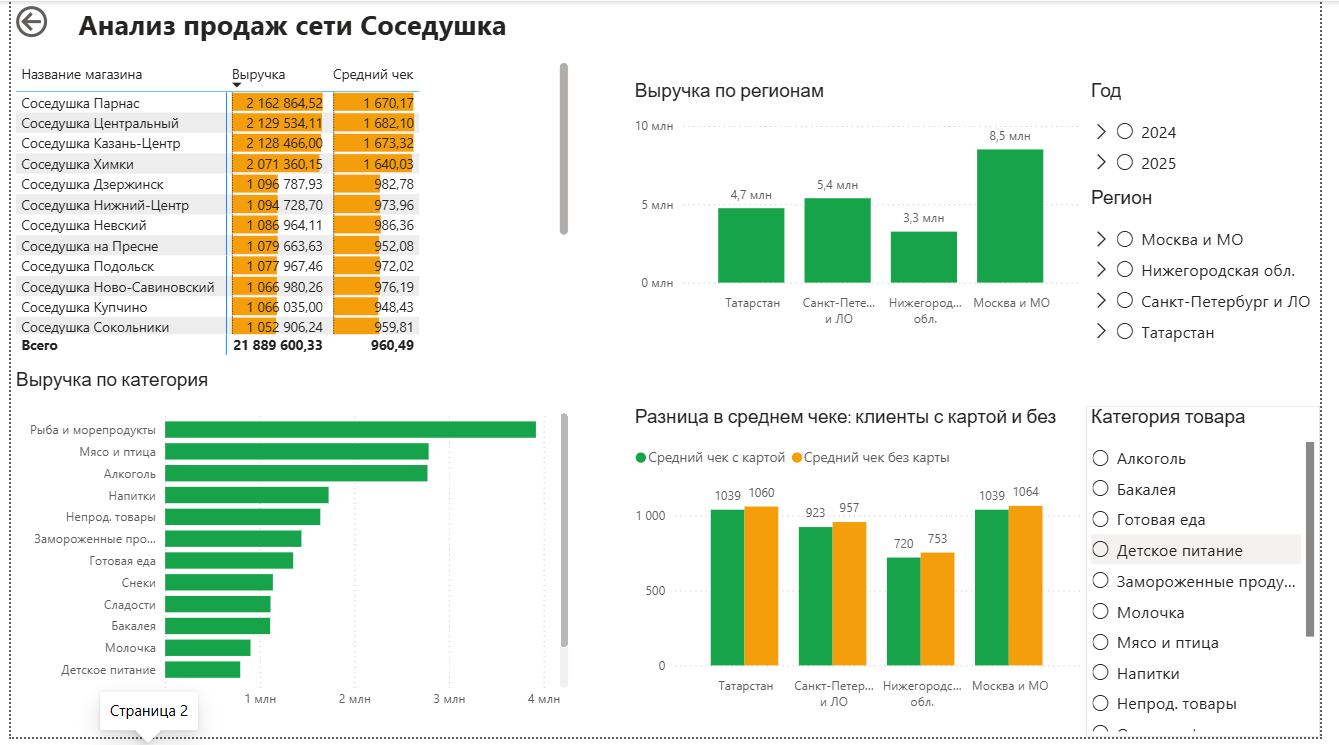

What the dashboard file says about the page in this screenshot:
{"tool":"powerbi","page":{"name":"Страница 2","canvas":[1280,720],"ordinal":1},"visuals":[{"type":"clusteredColumnChart","title":"Разница в среднем чеке: клиенты с картой и без","fields":{"Y":["fact_sales.avg_check_card","fact_sales.avg_check_nocard"],"Category":["dim_stores.регион"]},"box":[605.3,396.2,446.3,304.5],"z":0},{"type":"listSlicer","title":"Регион","fields":{"Values":["dim_stores.регион","dim_stores.наименование_магазина"]},"box":[1051.6,182.2,228.7,168.8],"z":1000},{"type":"textbox","box":[61.1,0,453.7,45.2],"z":2000},{"type":"pivotTable","title":"Выручка по магазинам","fields":{"Rows":["dim_stores.наименование_магазина"],"Values":["fact_sales.Revenue","fact_sales.средний чек"]},"box":[0,55,550.3,295.9],"z":3000},{"type":"listSlicer","title":"Категория товара","fields":{"Values":["dim_products.категория"]},"box":[1051.6,396.2,228.7,324.1],"z":4000},{"type":"listSlicer","fields":{"Values":["fact_sales.дата_время.Изменение.Иерархия дат.Год","dim_calendar.Год-Месяц"]},"box":[1051.6,77,228.7,105.2],"z":5000},{"type":"actionButton","box":[0,0,52.6,40.4],"z":6000},{"type":"clusteredColumnChart","title":"Выручка по регионам","fields":{"Category":["dim_stores.регион","dim_stores.город","dim_stores.id_магазина"],"Y":["fact_sales.Revenue"]},"box":[605.3,77,446.3,249.5],"z":7000},{"type":"clusteredBarChart","fields":{"Category":["dim_products.категория"],"Y":["fact_sales.Выручка"]},"box":[0,359.5,550.3,341.2],"z":7001}]}

Visuals, with their boxes on the page's 1280x720 design canvas (x1, y1, x2, y2). These are canvas units, not pixel positions in the 1339x745 screenshot, which may show the page scaled, cropped or inside an application window:
"Разница в среднем чеке: клиенты с картой и без" clusteredColumnChart: [left=605, top=396, right=1052, bottom=701]
"Регион" listSlicer: [left=1052, top=182, right=1280, bottom=351]
textbox: [left=61, top=0, right=515, bottom=45]
"Выручка по магазинам" pivotTable: [left=0, top=55, right=550, bottom=351]
"Категория товара" listSlicer: [left=1052, top=396, right=1280, bottom=720]
listSlicer - fact_sales.дата_время.Изменение.Иерархия дат.Год x dim_calendar.Год-Месяц: [left=1052, top=77, right=1280, bottom=182]
actionButton: [left=0, top=0, right=53, bottom=40]
"Выручка по регионам" clusteredColumnChart: [left=605, top=77, right=1052, bottom=326]
clusteredBarChart - dim_products.категория x fact_sales.Выручка: [left=0, top=360, right=550, bottom=701]
